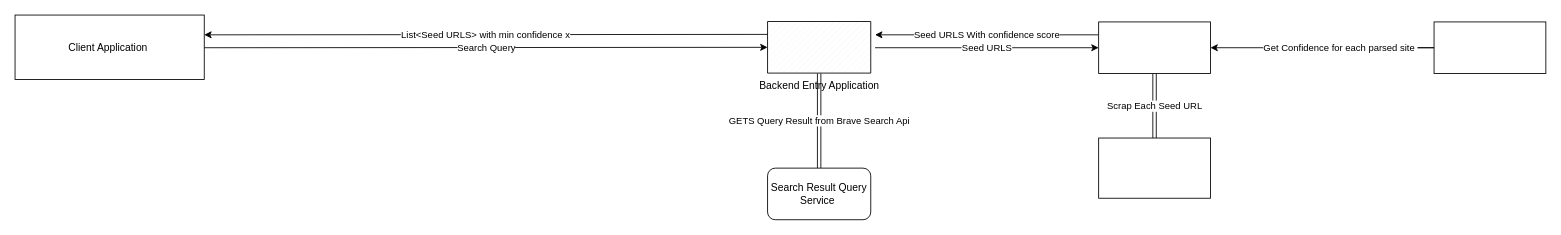
The diagram is 1561 pixels wide and 235 high, and some of its shapes have lost their labels. The centre of each missing label's shape, as x and y in pixels:
"LLM Model" goes at point 1489,47.
"Scrapper" goes at point 1154,167.
